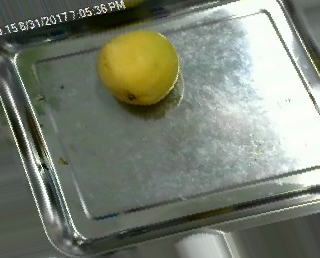Mango: (92, 26, 188, 111)
